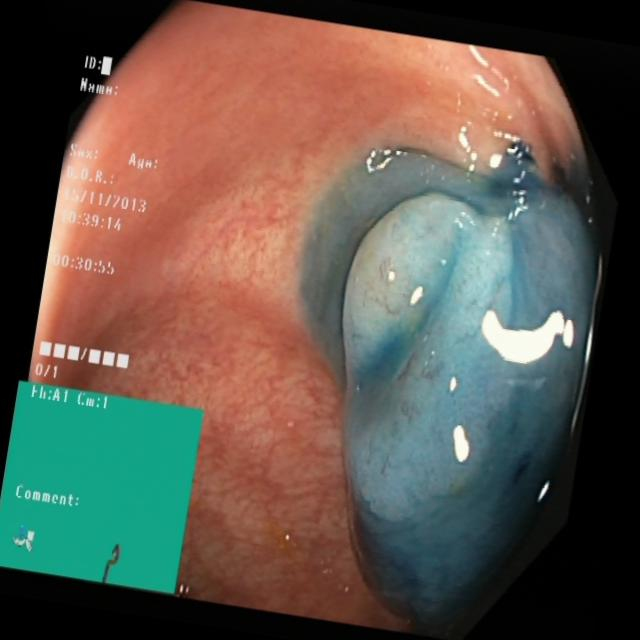dyed-lifted-polyps: (325, 193, 524, 556)
